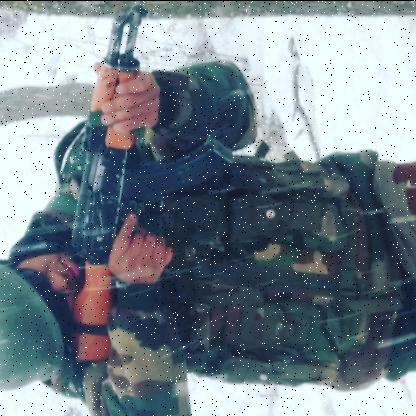rifle: (68, 0, 240, 364)
